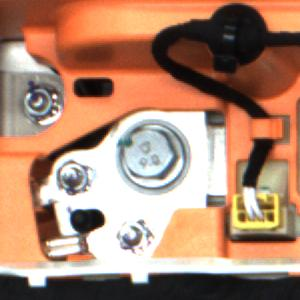nut_b: (116, 117, 191, 194)
screw_s: (116, 216, 158, 258), (18, 83, 59, 122), (55, 159, 91, 197)
